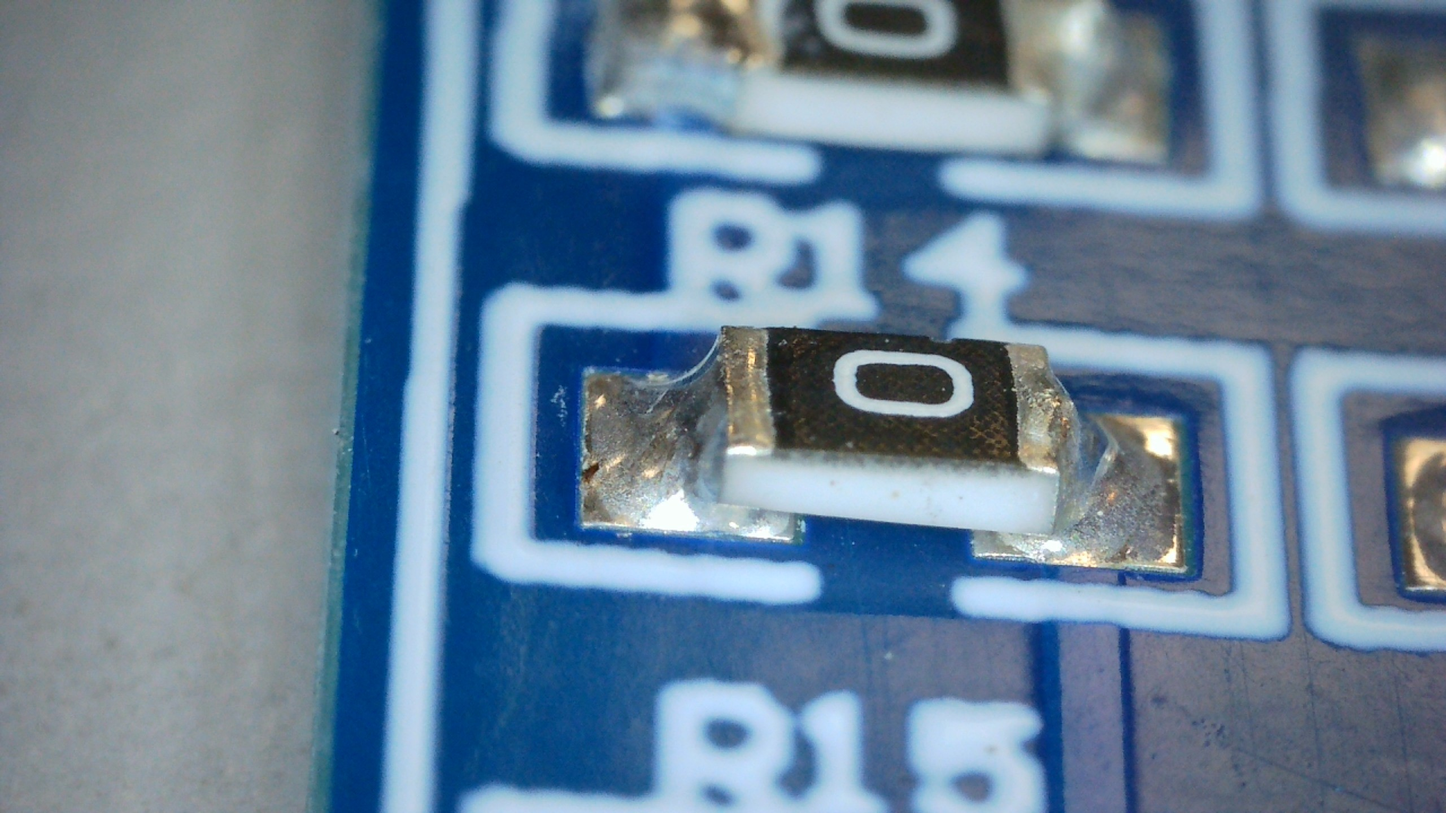NG: (1008, 342, 1135, 555)
OK: (590, 326, 786, 532)
